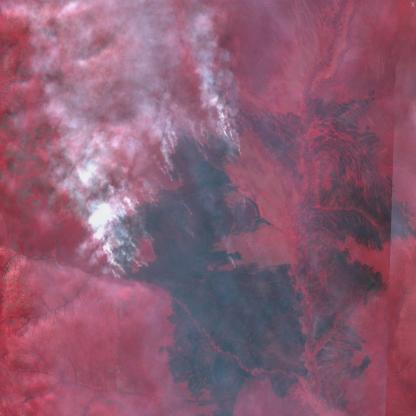fire: (110, 184, 158, 222), (214, 114, 247, 160), (106, 251, 156, 280), (157, 123, 181, 182), (108, 228, 161, 245)
